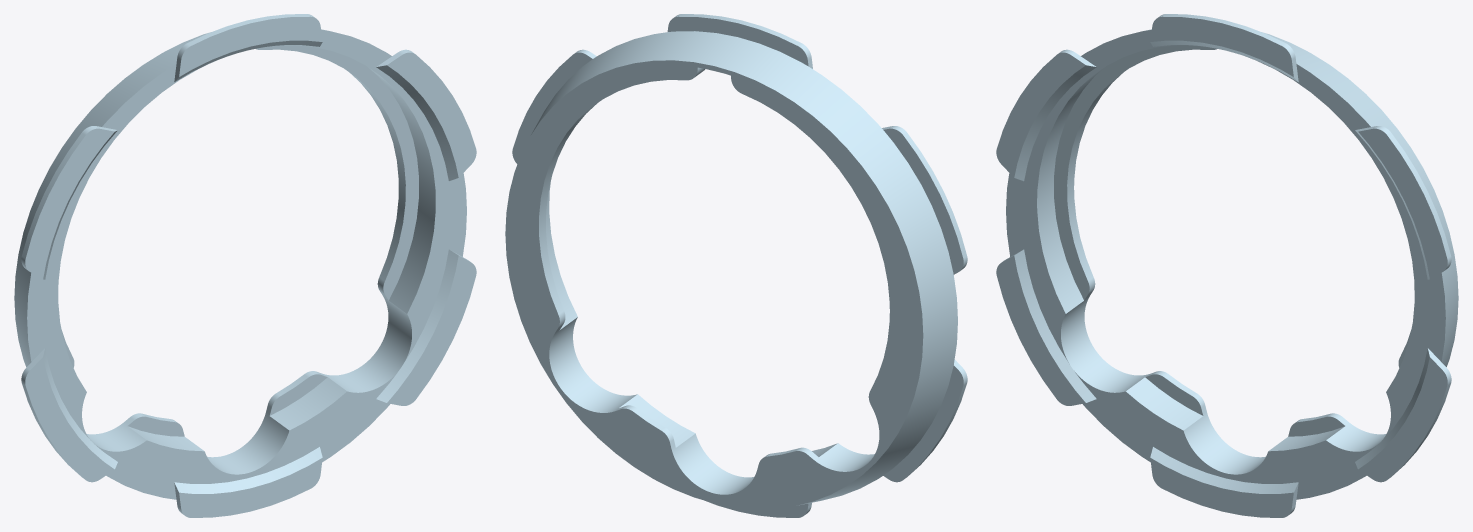
Rendered from project-fishbowl-fountain-ring.glb.
The picture shows the model from 3 angles, left to right: view 1: azimuth 30°, elevation 25°; view 2: azimuth 150°, elevation 25°; view 3: azimuth 330°, elevation 25°; orthographic projection.
Visible parts, largest first — view 1: Part 1; view 2: Part 1; view 3: Part 1.
Boxes of the visible parts, x1,y1,x2,y2 form: Part 1: (14,14,476,517); Part 1: (505,14,967,517); Part 1: (996,14,1458,517).
Bounding box in the file's own units: 0.2032 × 0.21 × 0.0215.
